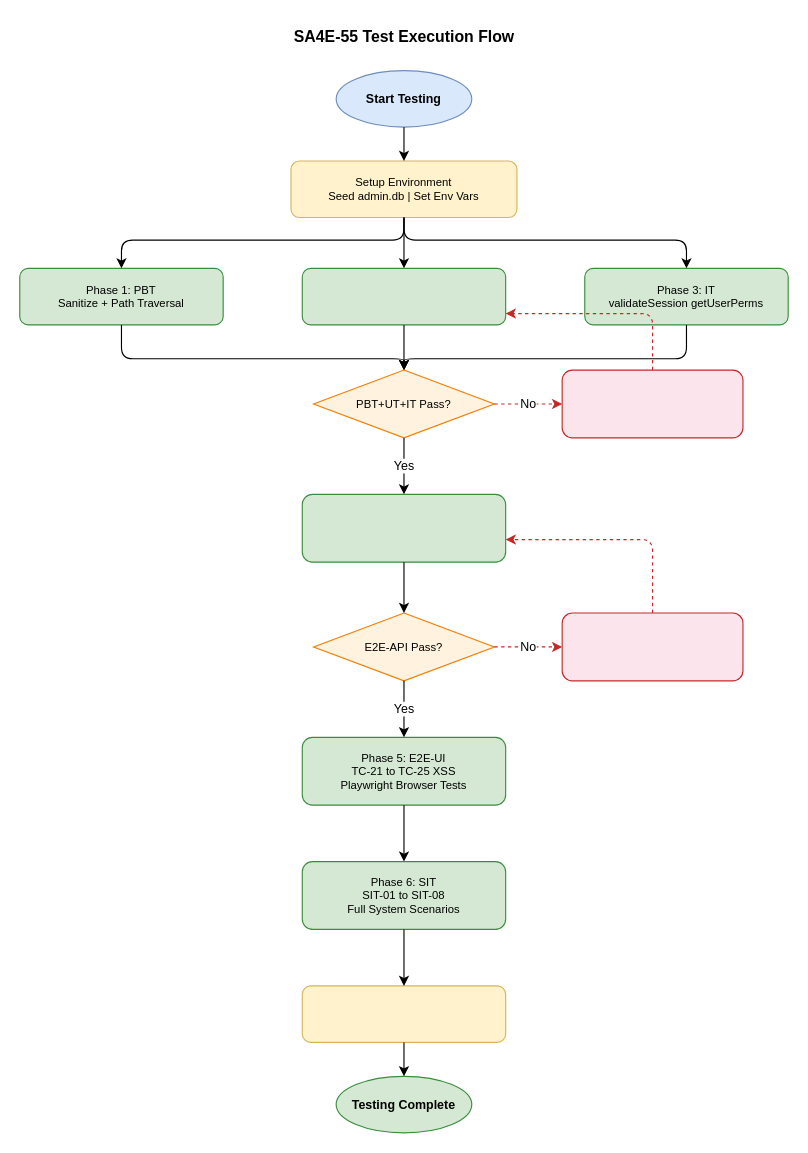
This 808x1153 diagram has some shape labels left out. Each missing label, with the centre of its shape:
"Fix Auth Issues (max 2)" belongs at (x=652, y=646).
"Fix Issues (max 3)" belongs at (x=652, y=403).
"Phase 2: UT requireAuth authGuard" belongs at (x=403, y=296).
"Phase 4: E2E-API TC-01 to TC-34 (34 cases) Live server port 48721" belongs at (x=403, y=527).
"Test Report P1 Pass 100% + Coverage 90%" belongs at (x=403, y=1013).
